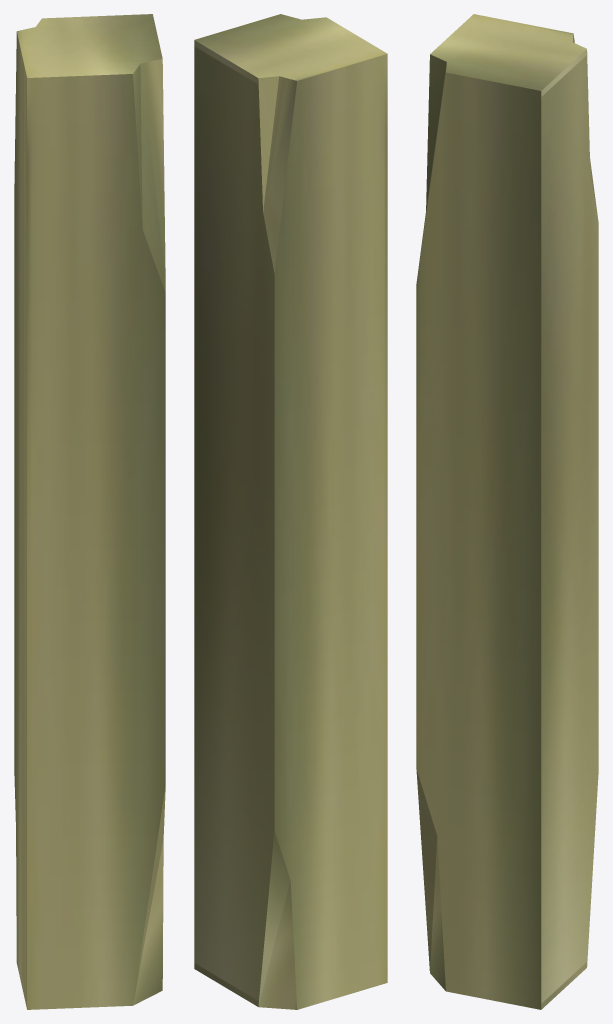
File: TheOctagon_Floor_1_Col_2.gltf
3 renders of one model, left to right at view 1: azimuth 30°, elevation 25°; view 2: azimuth 150°, elevation 25°; view 3: azimuth 270°, elevation 25°, orthographic.
Visible parts, largest first — view 1: TheOctagon_Floor_1_Col_2; view 2: TheOctagon_Floor_1_Col_2; view 3: TheOctagon_Floor_1_Col_2.
Boxes of the visible parts, x1,y1,x2,y2 form: TheOctagon_Floor_1_Col_2: [14, 14, 165, 1009]; TheOctagon_Floor_1_Col_2: [194, 14, 387, 1009]; TheOctagon_Floor_1_Col_2: [416, 14, 598, 1009].
Size of the model in its own units: 2.69 by 14.96 by 2.69.
1 material, 1 textured.
